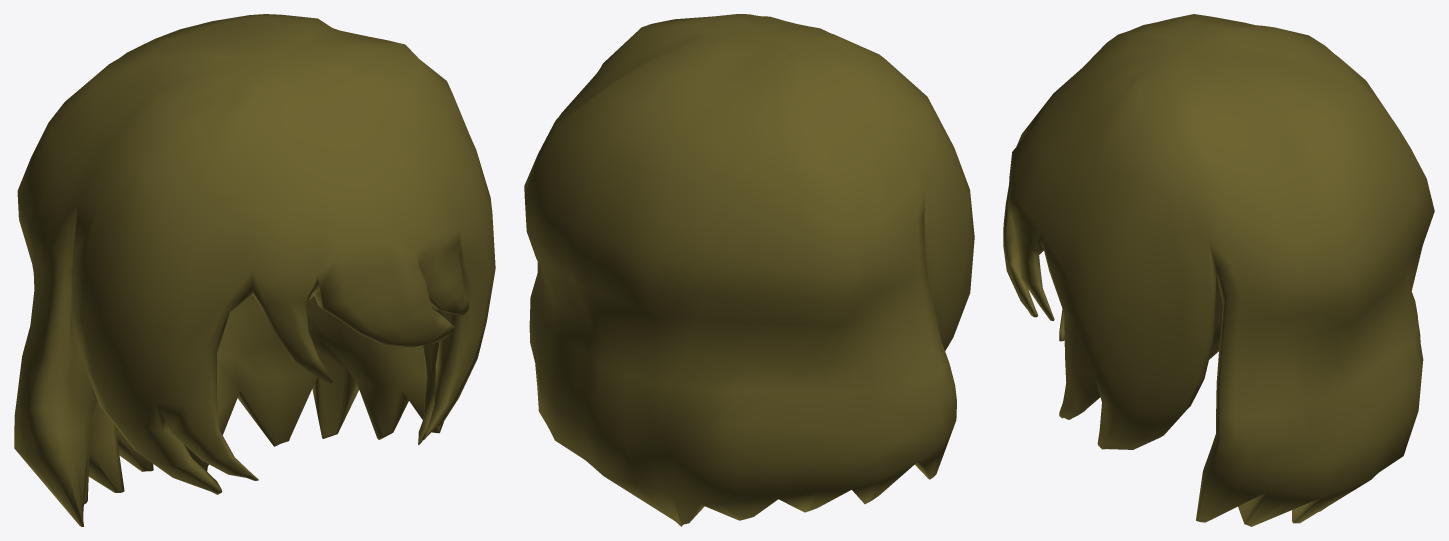
File: female_hair_5.fbx
The picture shows the model from 3 angles, left to right: view 1: azimuth 30°, elevation 25°; view 2: azimuth 150°, elevation 25°; view 3: azimuth 270°, elevation 25°; orthographic projection. The views are drawn at different scales.
Visible parts, largest first — view 1: Hanayo; view 2: Hanayo; view 3: Hanayo.
Boxes of the visible parts, x1,y1,x2,y2 form: Hanayo: [14, 14, 495, 526]; Hanayo: [524, 14, 974, 526]; Hanayo: [1003, 14, 1434, 526].
Size of the model in its own units: 132 by 136 by 119.
